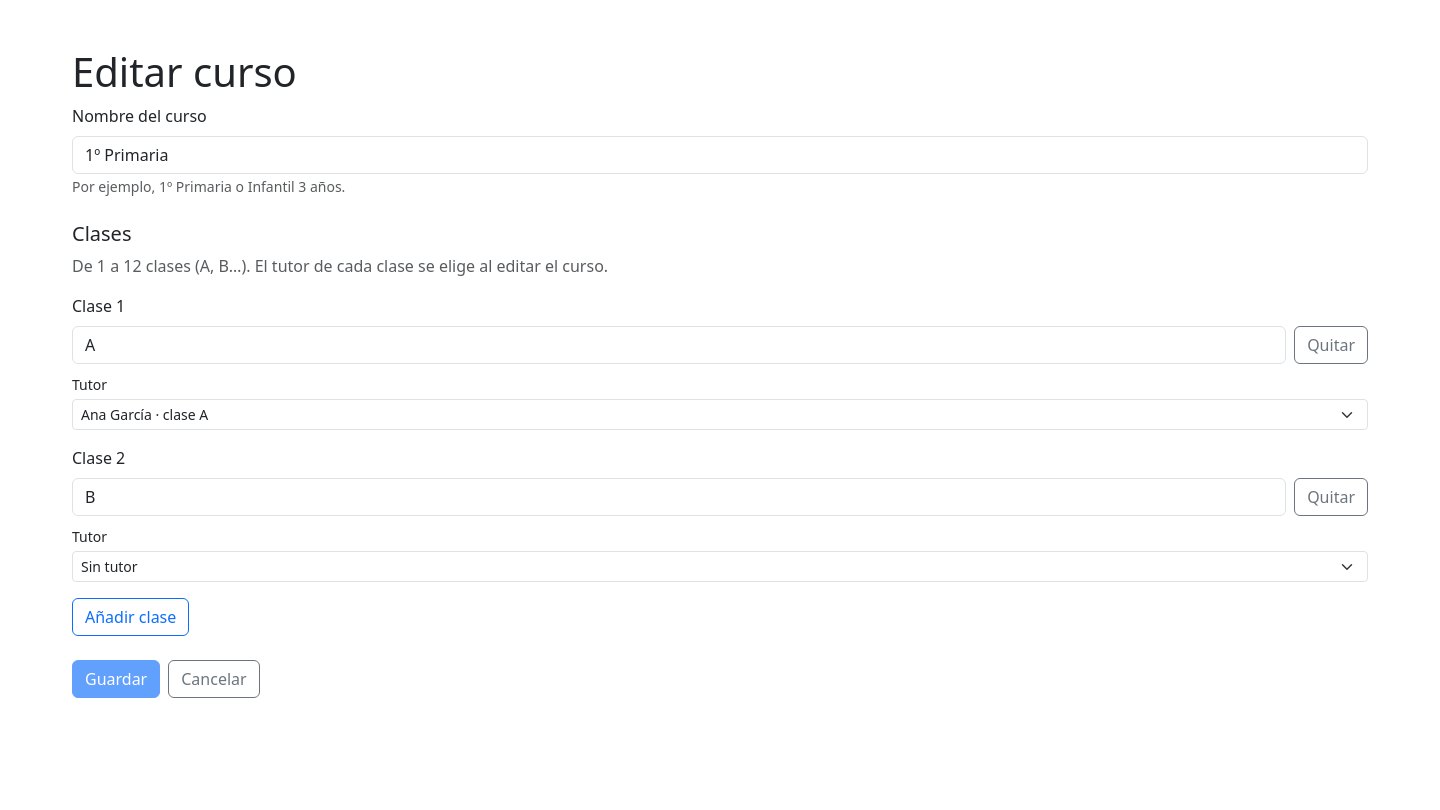
Test: EditCoursePage choosing the tutors › on a 409 PROFESSOR_ALREADY_TUTOR warns, asks for the professors again and marks the row of the professor that is gone
The image size is (1440, 810).
Select "Luis Pérez" in the dropdown labelled "Tutor" below "Clase 2" at point(720, 566), box top-left (72, 551), bottom-right (1368, 582)
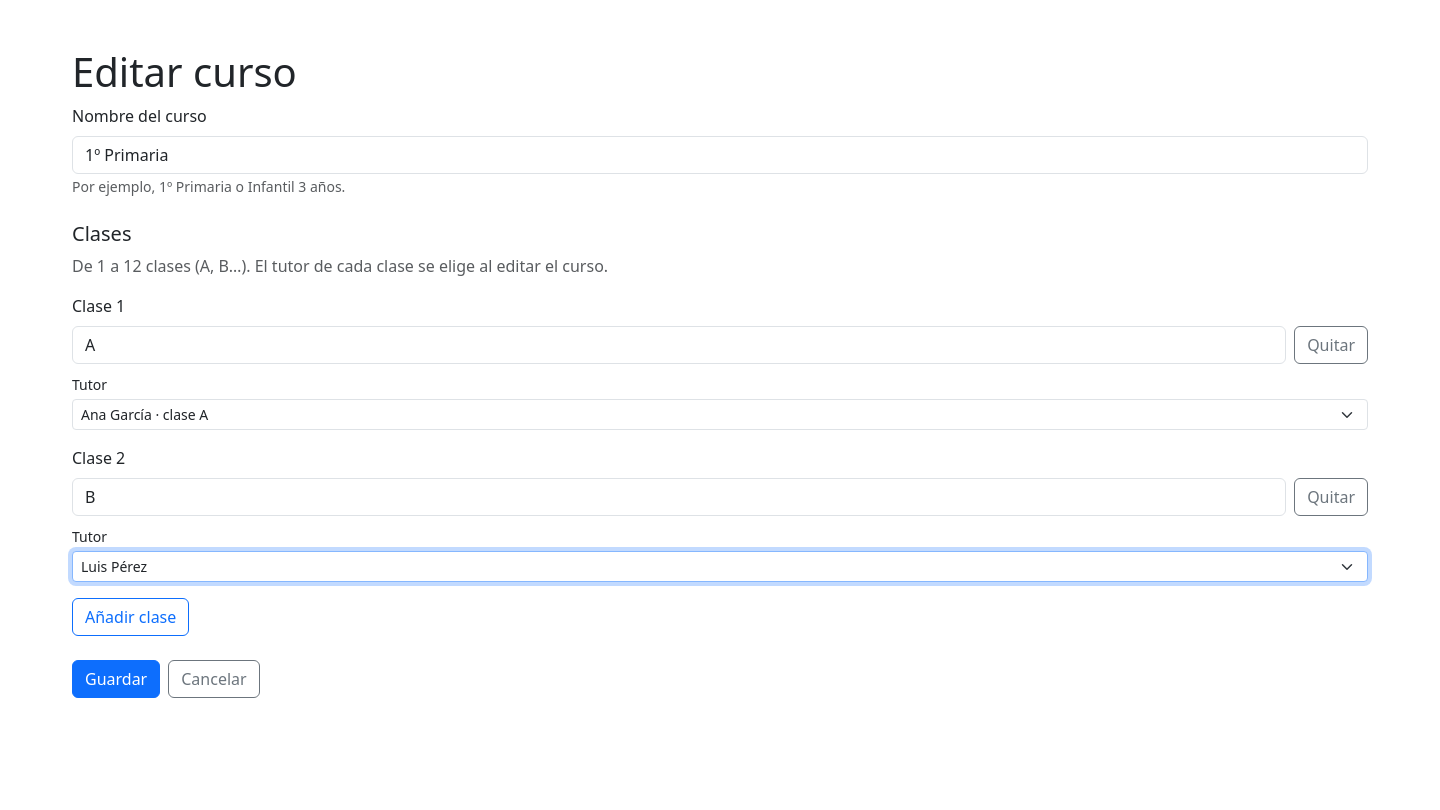
Click the button "Guardar" at point(116, 679), box top-left (72, 660), bottom-right (160, 698)
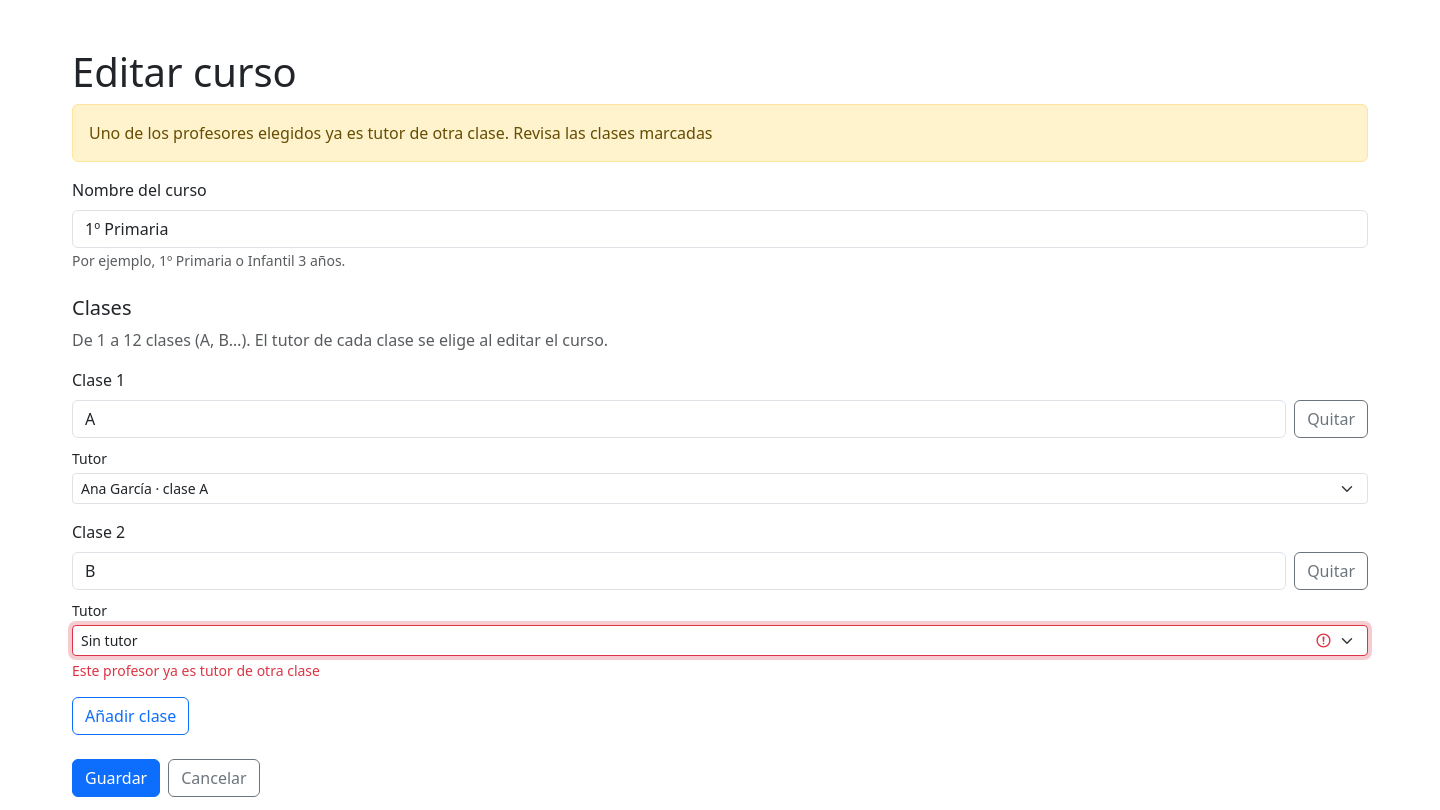
Expected: the text "Uno de los profesores elegidos ya es tutor de otra clase. Revisa las clases marcadas" is shown, top-left (89, 122), bottom-right (712, 144)
Expected: the text "Este profesor ya es tutor de otra clase" is shown, top-left (72, 661), bottom-right (320, 680)
